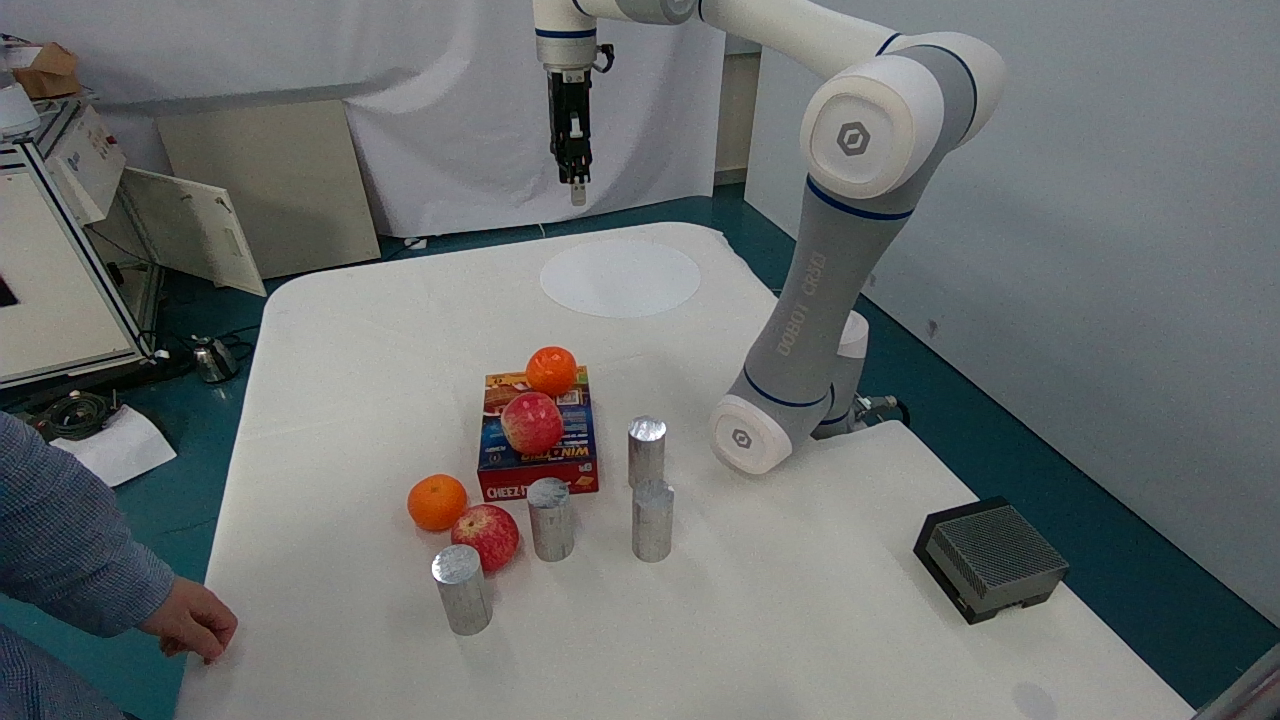apple: (493, 384, 577, 463), (446, 502, 528, 579)
metal rod: (428, 536, 507, 648), (622, 468, 692, 568), (514, 470, 585, 564), (615, 402, 682, 491)
orange: (400, 467, 475, 533), (504, 338, 588, 396)
